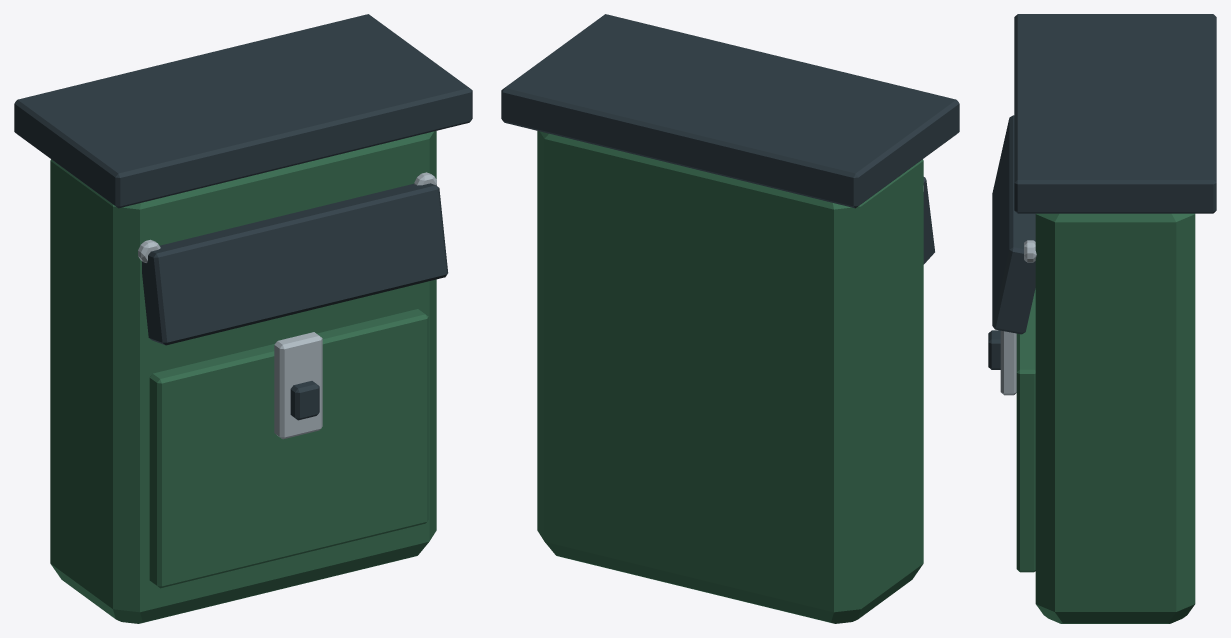
Rendered from b14_wall_letterbox_with_flap.glb.
The picture shows the model from 3 angles, left to right: view 1: azimuth 30°, elevation 25°; view 2: azimuth 150°, elevation 25°; view 3: azimuth 270°, elevation 25°; orthographic projection. The views are drawn at different scales.
Parts seen in each view (by area): view 1: b14_wall_letterbox_with_flap; view 2: b14_wall_letterbox_with_flap; view 3: b14_wall_letterbox_with_flap.
Boxes of the visible parts, <box> form: b14_wall_letterbox_with_flap: <box>14,14,472,623</box>; b14_wall_letterbox_with_flap: <box>501,14,959,623</box>; b14_wall_letterbox_with_flap: <box>988,14,1216,623</box>.
Bounding box in the file's own units: 0.375 × 0.4725 × 0.2145.
